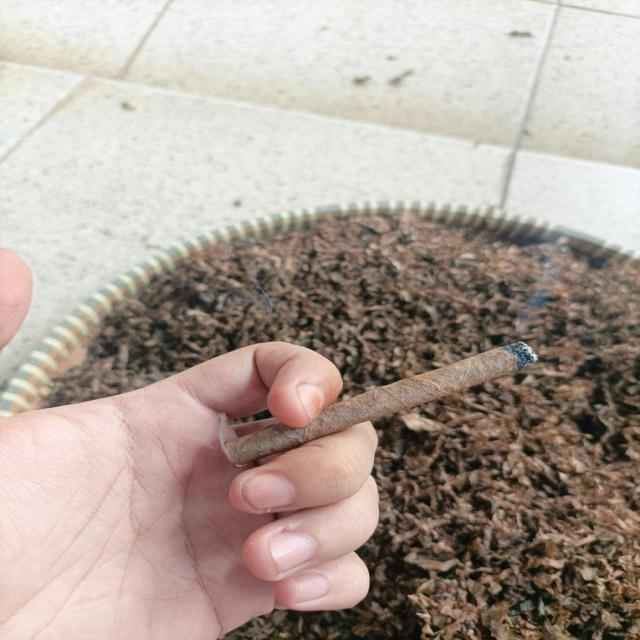rokok: (222, 342, 538, 466)
